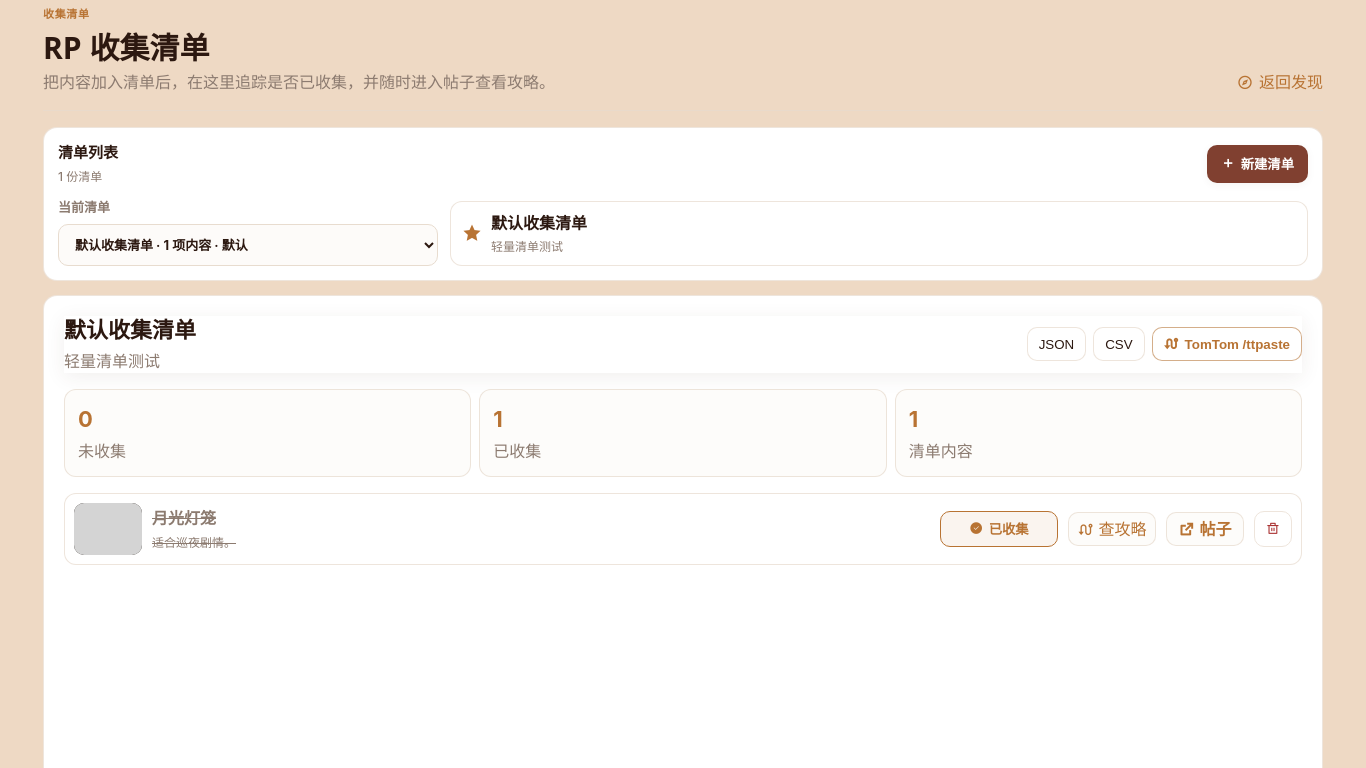
Scenario: RPDBLists › creates a new collection checklist from a modal
Click the button with test id "rpdb-list-create-open".
click(1258, 164)  # box [1207,145,1308,183]
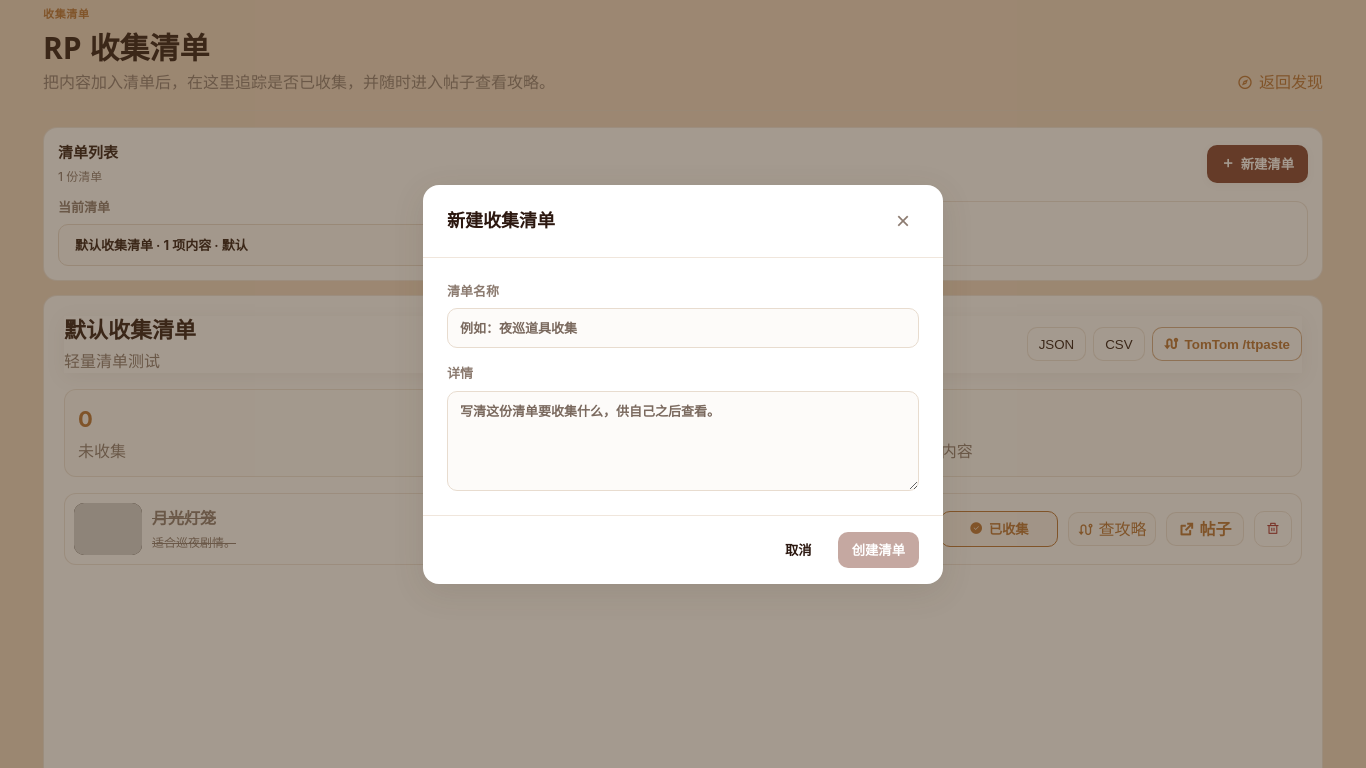
Expected: the field with test id "rpdb-list-create-name" is shown
Type "测试新清单" into the field with test id "rpdb-list-create-name".
click(683, 328); type("测试新清单")  # box [447,308,919,348]
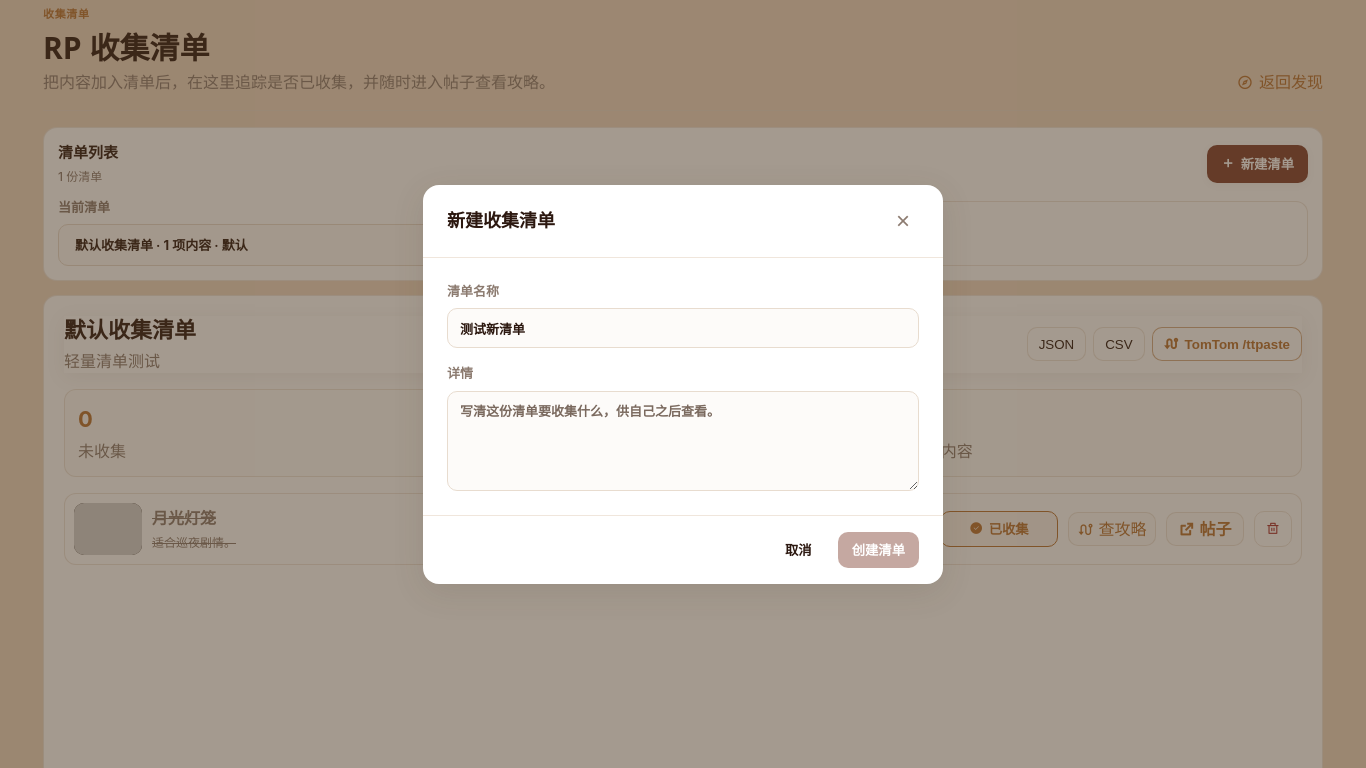
Type "测试详情" into the text box with test id "rpdb-list-create-description".
click(683, 440); type("测试详情")  # box [447,390,919,490]
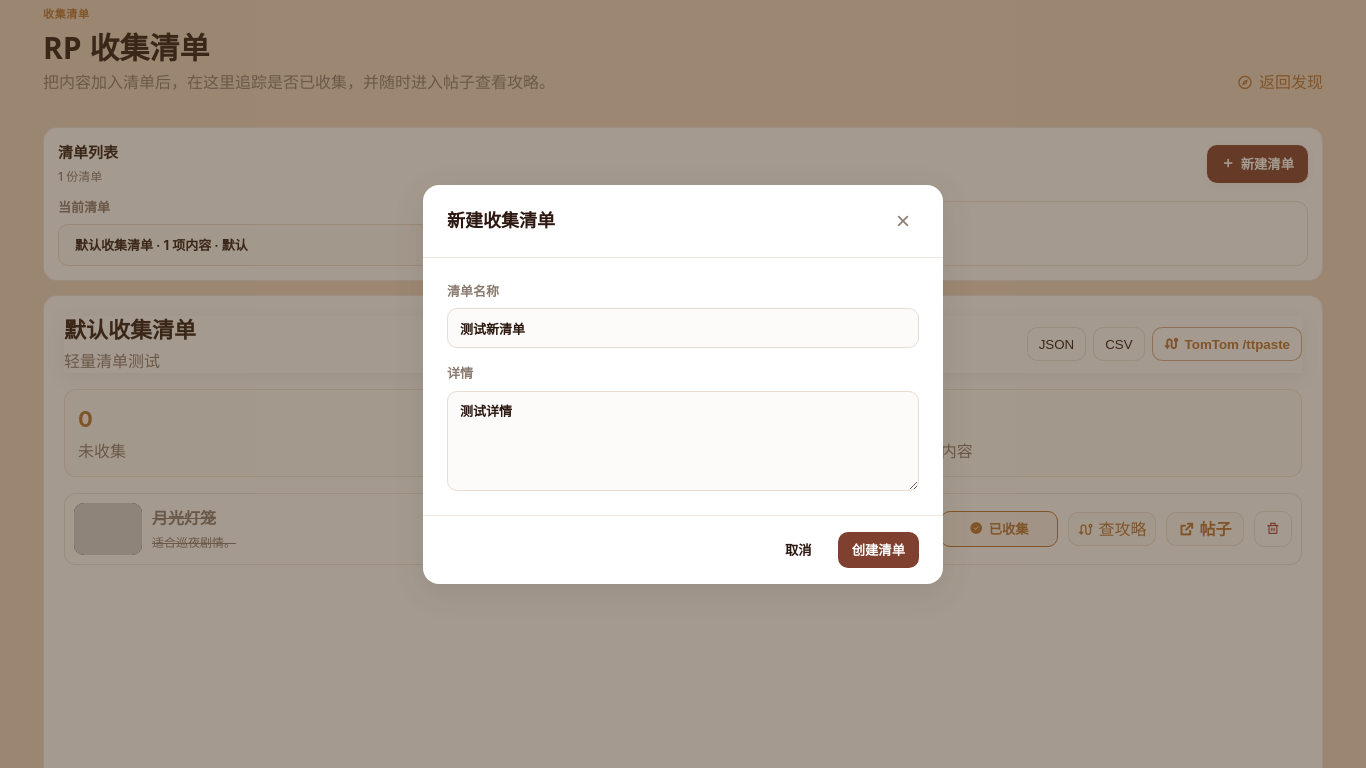
Click the button with test id "rpdb-list-create-submit".
click(878, 550)  # box [838,532,919,568]
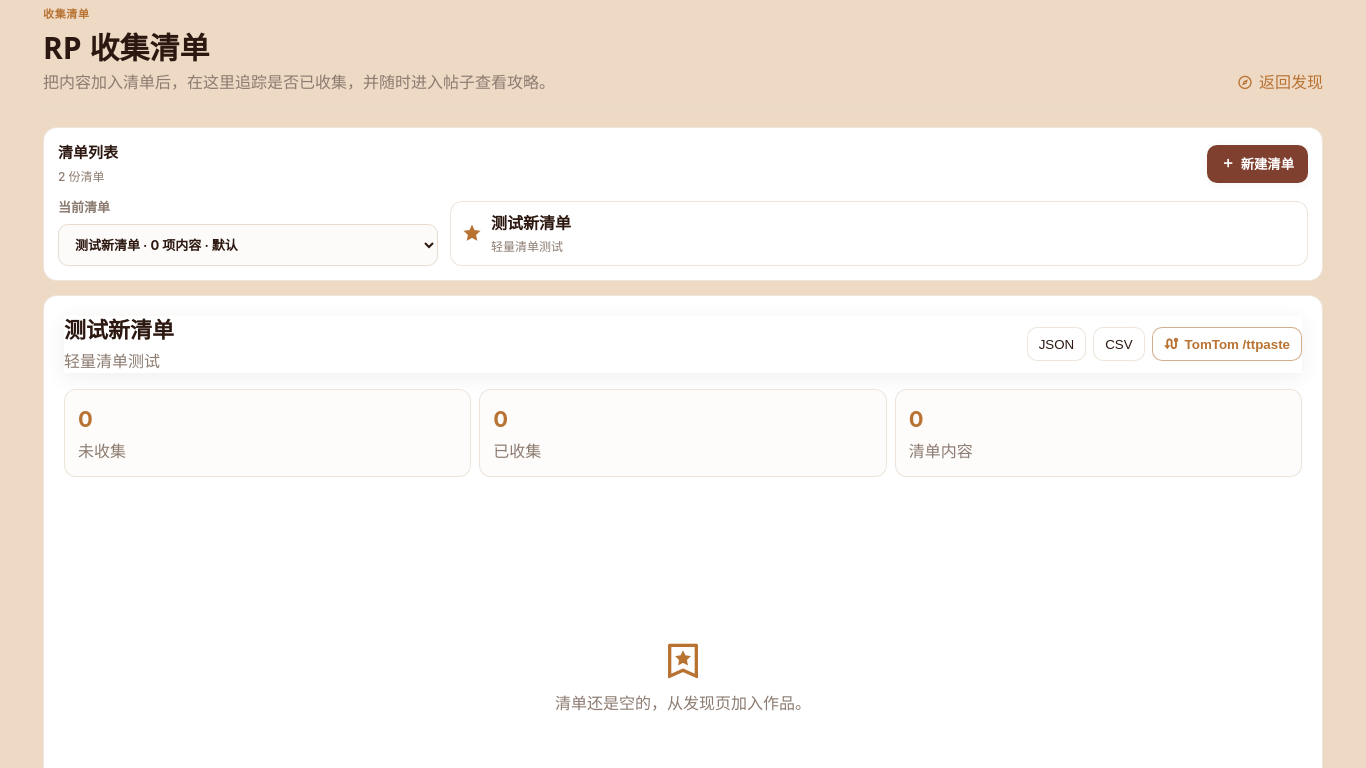
Expected: the text "测试新清单" is shown, [491,211,571,235]
Expected: the field with test id "rpdb-list-create-name" is gone
